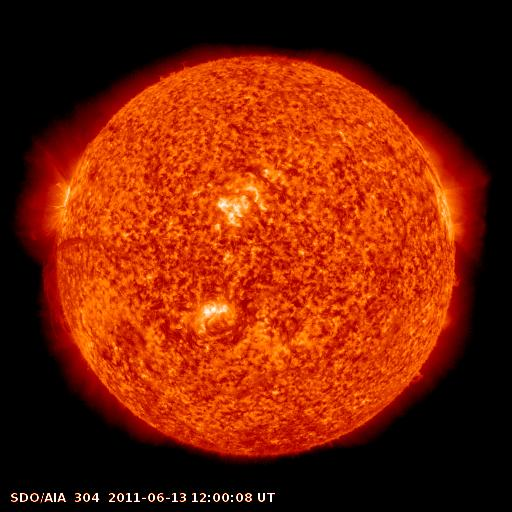prominence: (38, 237, 77, 336)
